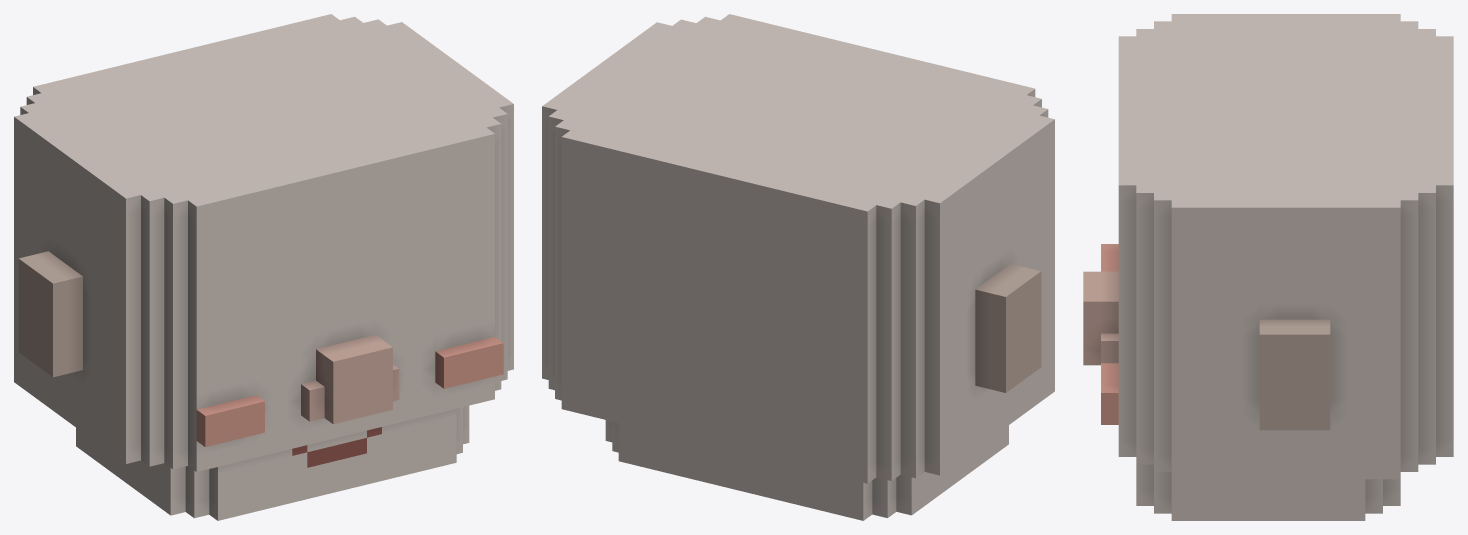
Rendered from head_adult.glb.
The picture shows the model from 3 angles, left to right: view 1: azimuth 30°, elevation 25°; view 2: azimuth 150°, elevation 25°; view 3: azimuth 270°, elevation 25°; orthographic projection. The views are drawn at different scales.
Visible parts, largest first — view 1: VoxelVisual; view 2: VoxelVisual; view 3: VoxelVisual.
Boxes of the visible parts, bbox=[...] form: VoxelVisual: bbox=[14, 14, 513, 520]; VoxelVisual: bbox=[542, 14, 1054, 520]; VoxelVisual: bbox=[1083, 14, 1453, 520].
Size of what is drawn, in the model's own units: 1.88 by 1.31 by 1.31.
